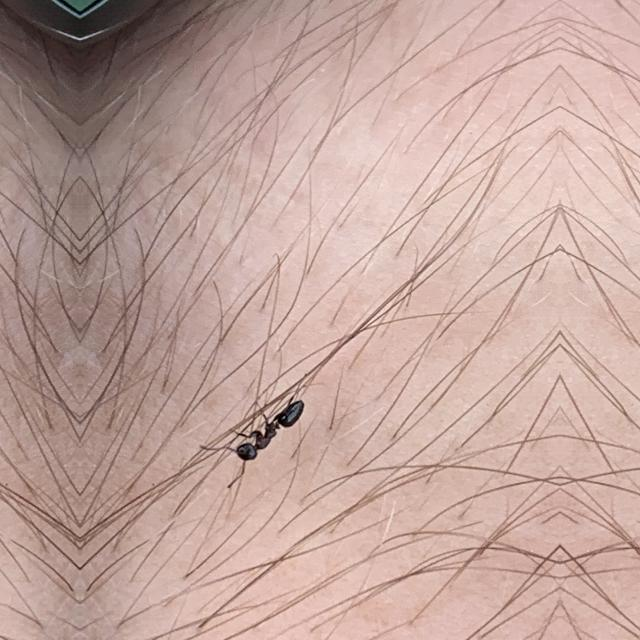Colobopsis: (224, 388, 310, 479)
